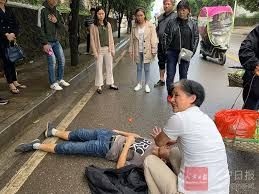10+: (1, 1, 258, 193)
down: (10, 111, 186, 174)
